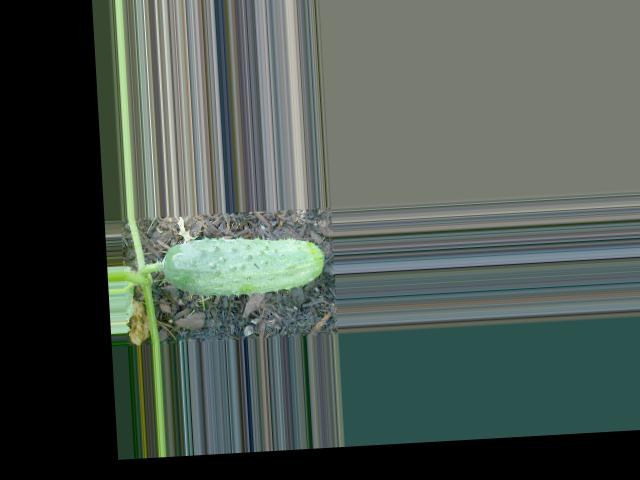cucumber: (161, 231, 327, 299)
